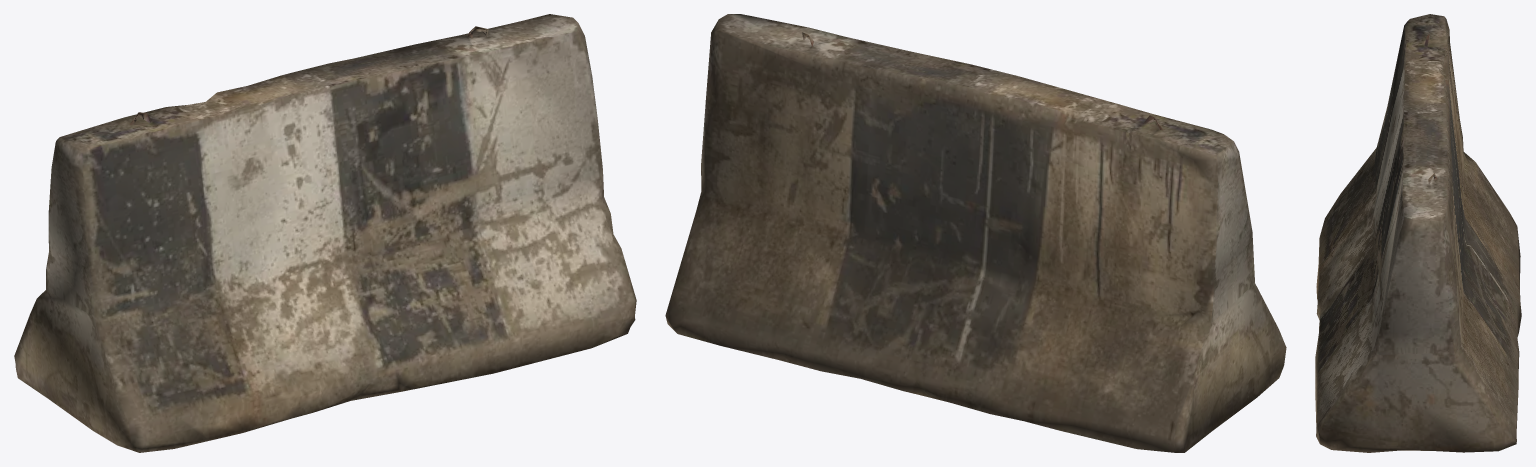
Rendered from barrier.glb.
3 renders of one model, left to right at view 1: azimuth 30°, elevation 25°; view 2: azimuth 150°, elevation 25°; view 3: azimuth 270°, elevation 25°, orthographic. The views are drawn at different scales.
Visible parts, largest first — view 1: concrete_road_barrier; view 2: concrete_road_barrier; view 3: concrete_road_barrier.
Part boxes in pixels (box(x1,y1,x2,y2)): concrete_road_barrier: box(14, 14, 636, 452); concrete_road_barrier: box(665, 14, 1286, 452); concrete_road_barrier: box(1315, 14, 1521, 452).
Bounding box in the file's own units: 1.54 × 0.8281 × 0.6342.
Materials: 1 (1 with a texture image).
